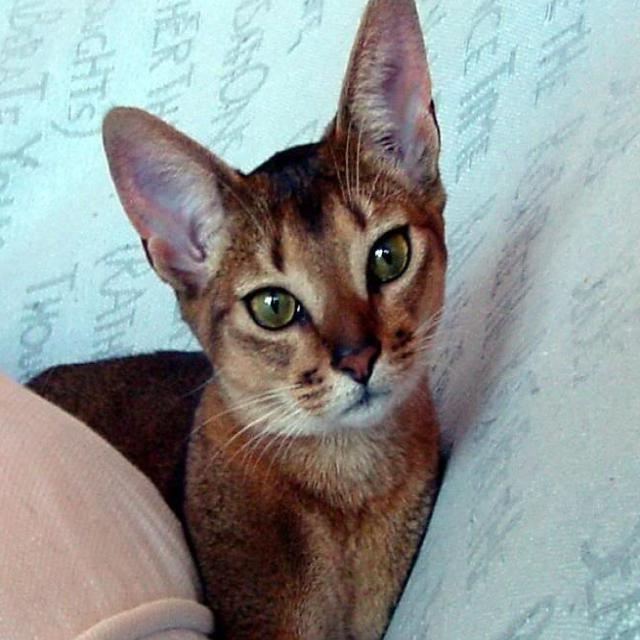Abyssinian: (18, 0, 454, 640)
